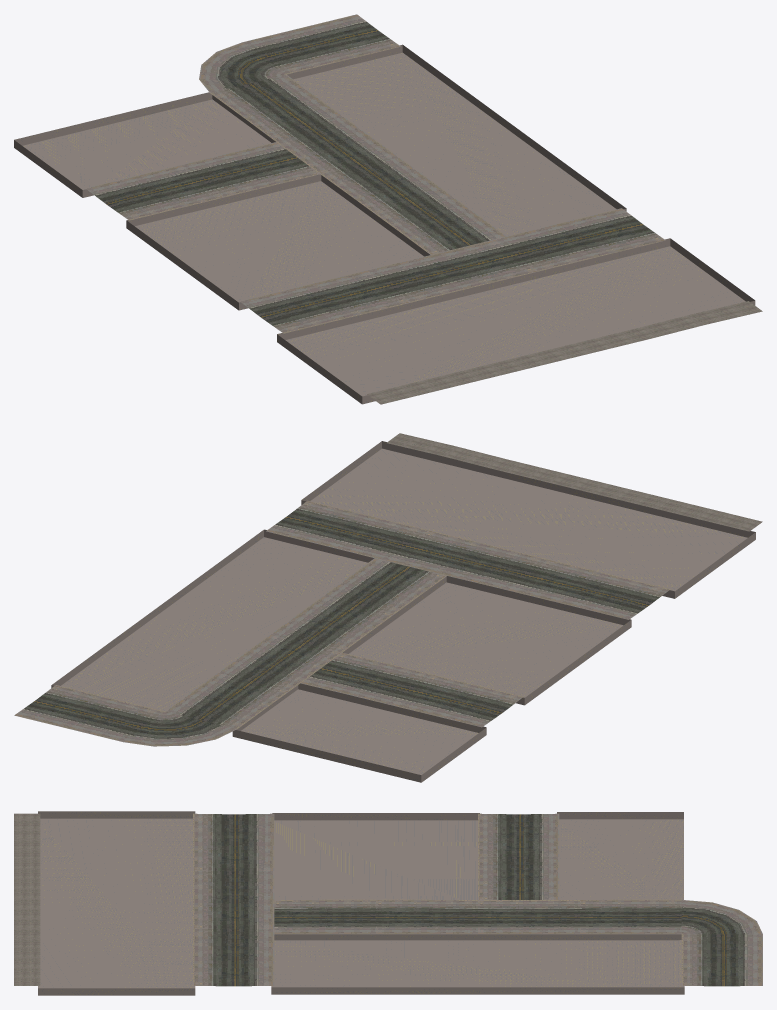
File: lodcunte_roads20.obj
3 views of the same model, one above another, from view 1: azimuth 30°, elevation 25°; view 2: azimuth 150°, elevation 25°; view 3: azimuth 270°, elevation 25° (orthographic). The views are drawn at different scales.
Parts seen in each view (by area): view 1: LODcunte_roads20; view 2: LODcunte_roads20; view 3: LODcunte_roads20.
Boxes of the visible parts, x1,y1,x2,y2 form: LODcunte_roads20: (14, 14, 762, 404); LODcunte_roads20: (14, 433, 762, 782); LODcunte_roads20: (14, 811, 762, 995).
Size of the model in its own units: 103 by 2.23 by 184.
Materials: 2 (2 with a texture image).
